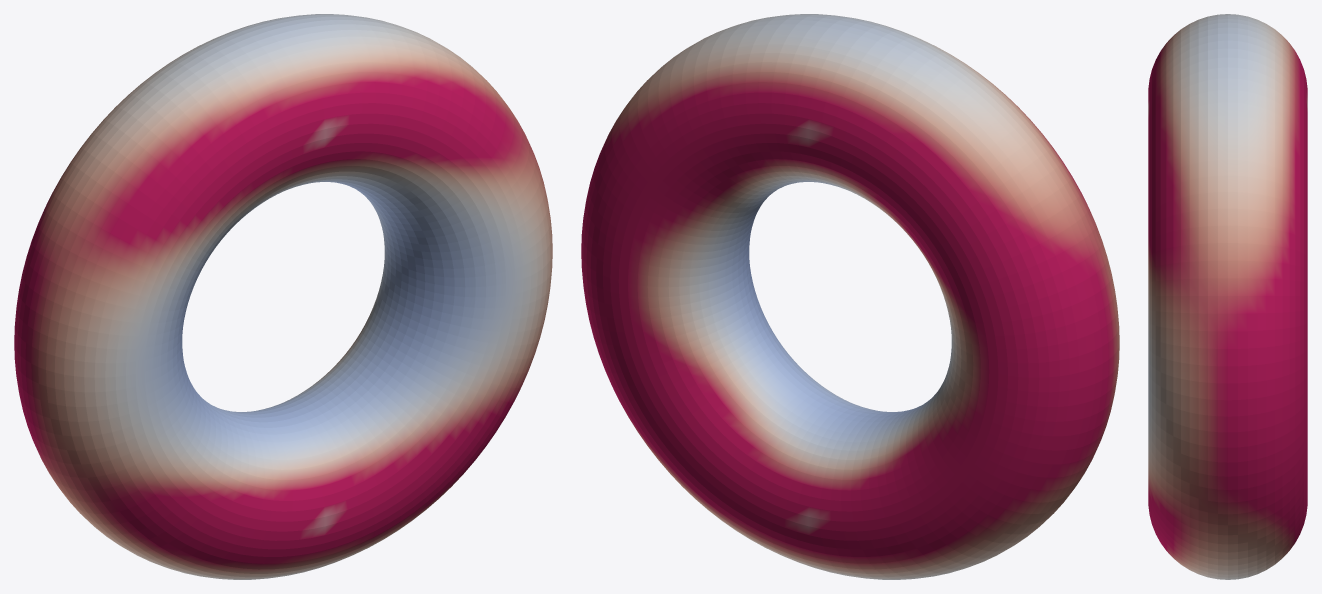
The picture shows the model from 3 angles, left to right: view 1: azimuth 30°, elevation 25°; view 2: azimuth 150°, elevation 25°; view 3: azimuth 270°, elevation 25°; orthographic projection. The views are drawn at different scales.
Parts seen in each view (by area): view 1: world; view 2: world; view 3: world.
Part boxes in pixels (x1,y1,x2,y2): world: (14, 14, 552, 579); world: (581, 14, 1119, 579); world: (1148, 14, 1307, 579).
Size of the model in its own units: 26 by 26 by 7.32.
